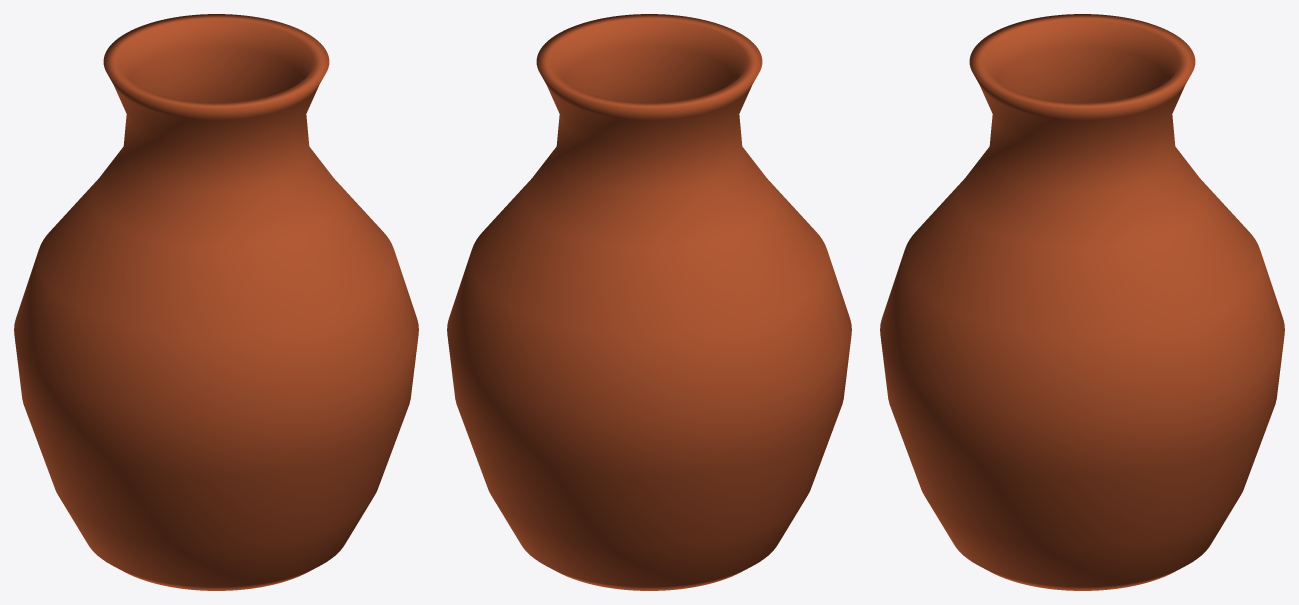
File: vaso.glb
3 renders of one model, left to right at view 1: azimuth 30°, elevation 25°; view 2: azimuth 150°, elevation 25°; view 3: azimuth 270°, elevation 25°, orthographic.
Parts seen in each view (by area): view 1: Vaso; view 2: Vaso; view 3: Vaso.
Part boxes in pixels (bbox=[...]): Vaso: bbox=[14, 14, 418, 590]; Vaso: bbox=[447, 14, 851, 590]; Vaso: bbox=[880, 14, 1284, 590].
Size of the model in its own units: 1.04 by 1.36 by 1.04.
